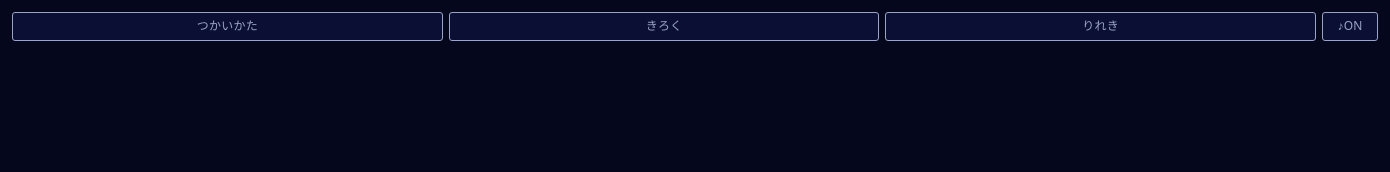
Test case: AppHeader › ♪ を押すと表示が反転し、localStorage に残る
The image size is (1390, 172).
Click the button "♪ON".
click(1350, 26)  # box [1322, 12, 1378, 41]
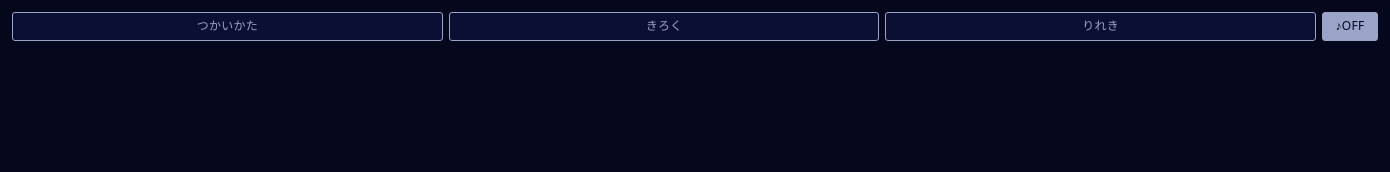
Expected: the button "♪OFF" is shown, [1322, 12, 1378, 41]
